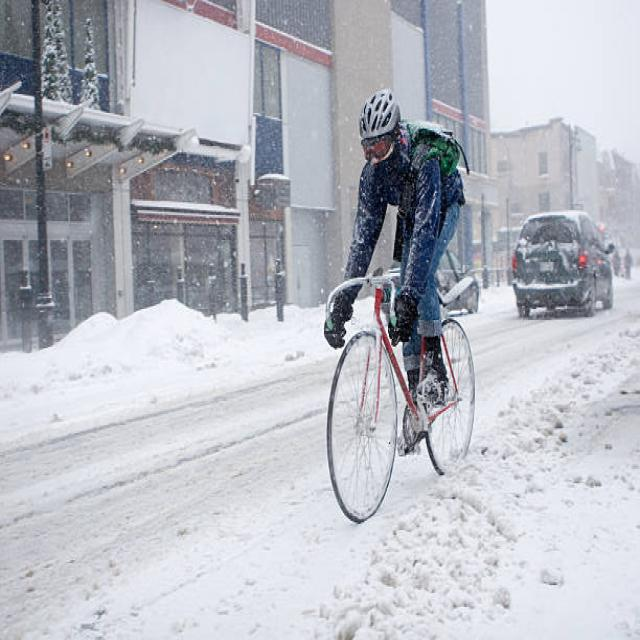bicycle: (324, 90, 475, 522)
